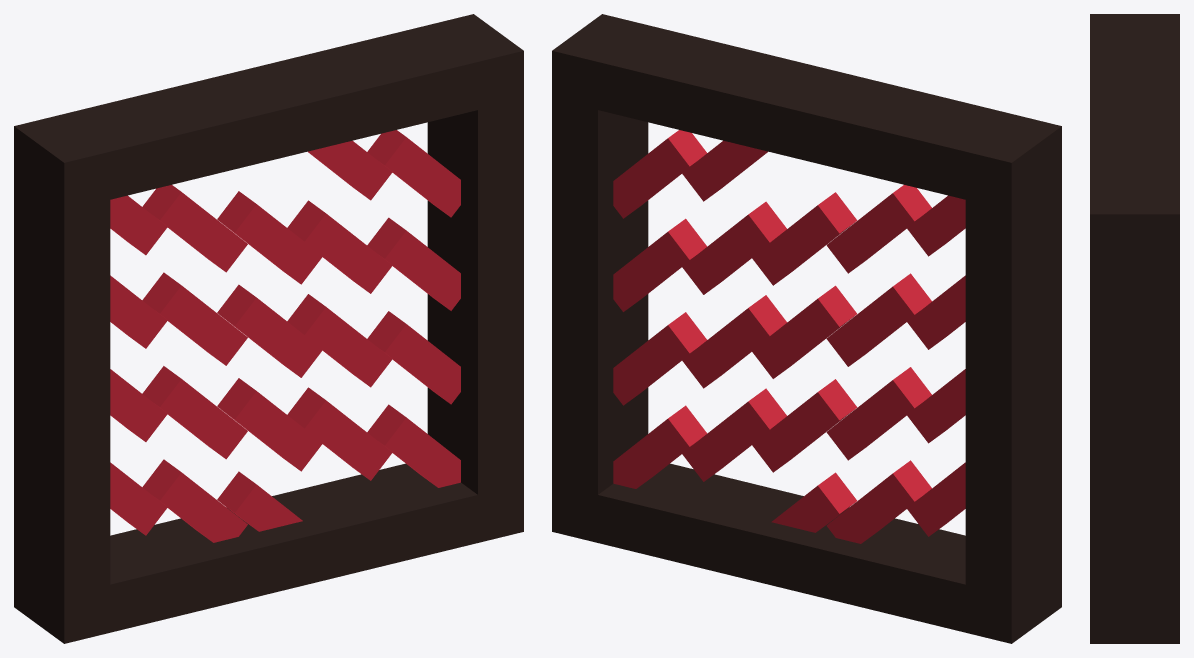
File: KINETIKA_MURS_DESTRUCTIBLE_4.FBX
3 renders of one model, left to right at view 1: azimuth 30°, elevation 25°; view 2: azimuth 150°, elevation 25°; view 3: azimuth 270°, elevation 25°, orthographic. The views are drawn at different scales.
Visible parts, largest first — view 1: Wall4, Box234, Box235, Box236, Box232, Box230, Box239, Box241, Box240, Box231, Box237, Box243 (+9 smaller); view 2: Wall4, Box235, Box236, Box234, Box232, Box230, Box239, Box241, Box240, Box231, Box237, Box243 (+9 smaller); view 3: Wall4.
Boxes of the visible parts, bbox=[...] form: Wall4: bbox=[14, 14, 523, 643]; Box234: bbox=[217, 378, 322, 471]; Box235: bbox=[217, 191, 322, 284]; Box236: bbox=[217, 284, 322, 377]; Box232: bbox=[142, 272, 247, 365]; Box230: bbox=[142, 366, 247, 459]; Box239: bbox=[287, 387, 392, 480]; Box241: bbox=[287, 294, 392, 387]; Box240: bbox=[287, 200, 392, 293]; Box231: bbox=[142, 185, 247, 272]; Box237: bbox=[367, 311, 460, 404]; Box243: bbox=[367, 217, 460, 310]; Wall4: bbox=[552, 14, 1061, 643]; Box235: bbox=[751, 192, 857, 285]; Box236: bbox=[751, 285, 856, 378]; Box234: bbox=[751, 379, 857, 472]; Box232: bbox=[826, 273, 931, 366]; Box230: bbox=[826, 367, 931, 460]; Box239: bbox=[682, 388, 786, 481]; Box241: bbox=[682, 295, 786, 388]; Box240: bbox=[682, 201, 786, 294]; Box231: bbox=[826, 185, 931, 273]; Box237: bbox=[613, 312, 706, 405]; Box243: bbox=[613, 218, 706, 311]; Wall4: bbox=[1090, 14, 1179, 643].
Bounding box in the file's own units: 29.6 × 29.6 × 5.6.
